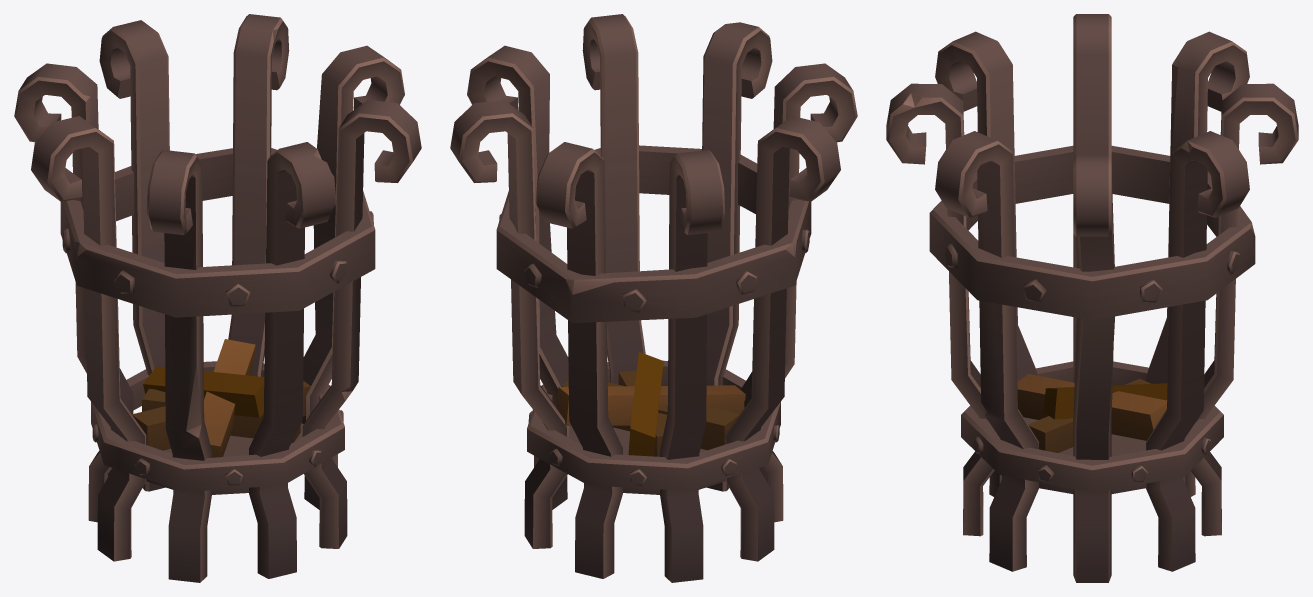
File: FirePlace_1_2_G.glb
The picture shows the model from 3 angles, left to right: view 1: azimuth 30°, elevation 25°; view 2: azimuth 150°, elevation 25°; view 3: azimuth 270°, elevation 25°; orthographic projection.
Visible parts, largest first — view 1: FirePlace_1_2_G; view 2: FirePlace_1_2_G; view 3: FirePlace_1_2_G.
Boxes of the visible parts, box(x1,y1,x2,y2) form: FirePlace_1_2_G: box(14, 14, 421, 582); FirePlace_1_2_G: box(450, 14, 857, 582); FirePlace_1_2_G: box(886, 14, 1298, 582).
Size of the model in its own units: 0.7082 by 0.8289 by 0.7082.
Materials: 2 (2 with a texture image).
